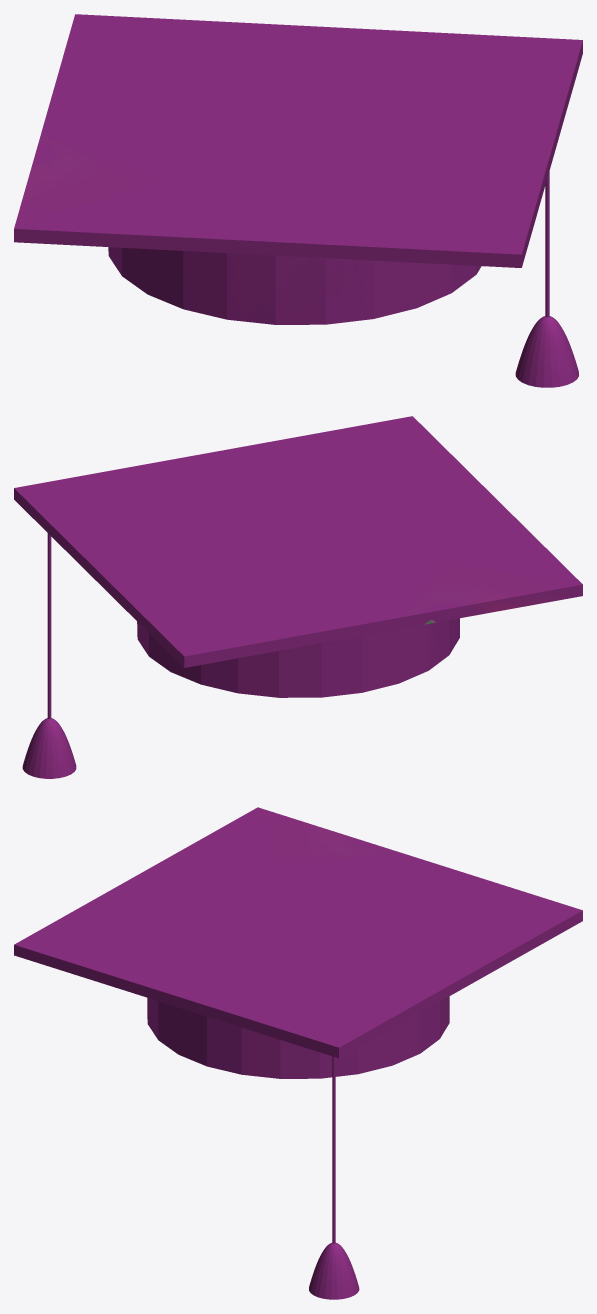
File: graduation cap.glb
3 views of the same model, one above another, from view 1: azimuth 30°, elevation 25°; view 2: azimuth 150°, elevation 25°; view 3: azimuth 270°, elevation 25° (orthographic). The views are drawn at different scales.
Visible parts, largest first — view 1: node_id3; view 2: node_id3; view 3: node_id3.
Part boxes in pixels (<box>): node_id3: <box>14,14,582,387</box>; node_id3: <box>14,416,582,778</box>; node_id3: <box>14,807,582,1299</box>.
Size of the model in its own units: 0.9364 by 0.4654 by 0.9364.
Materials: 1 (1 with a texture image).
